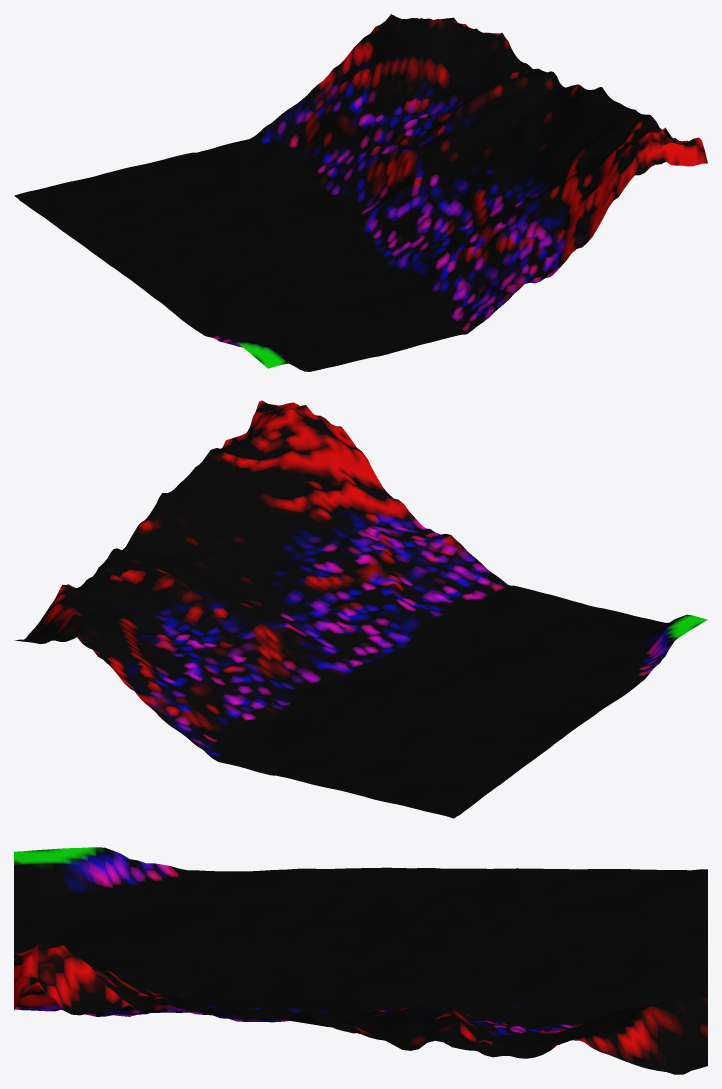
Rendered from SM_AsirMountains_Terrain_1_3.fbx.
The picture shows the model from 3 angles, top to bottom: view 1: azimuth 30°, elevation 25°; view 2: azimuth 150°, elevation 25°; view 3: azimuth 270°, elevation 25°; orthographic projection. The views are drawn at different scales.
Visible parts, largest first — view 1: SM_AsirMountains_Terrain_1_3; view 2: SM_AsirMountains_Terrain_1_3; view 3: SM_AsirMountains_Terrain_1_3.
Part boxes in pixels (<box>): SM_AsirMountains_Terrain_1_3: <box>14,14,707,371</box>; SM_AsirMountains_Terrain_1_3: <box>14,400,707,818</box>; SM_AsirMountains_Terrain_1_3: <box>14,847,707,1074</box>.
Bounding box in the file's own units: 50400 × 15471 × 50400.
